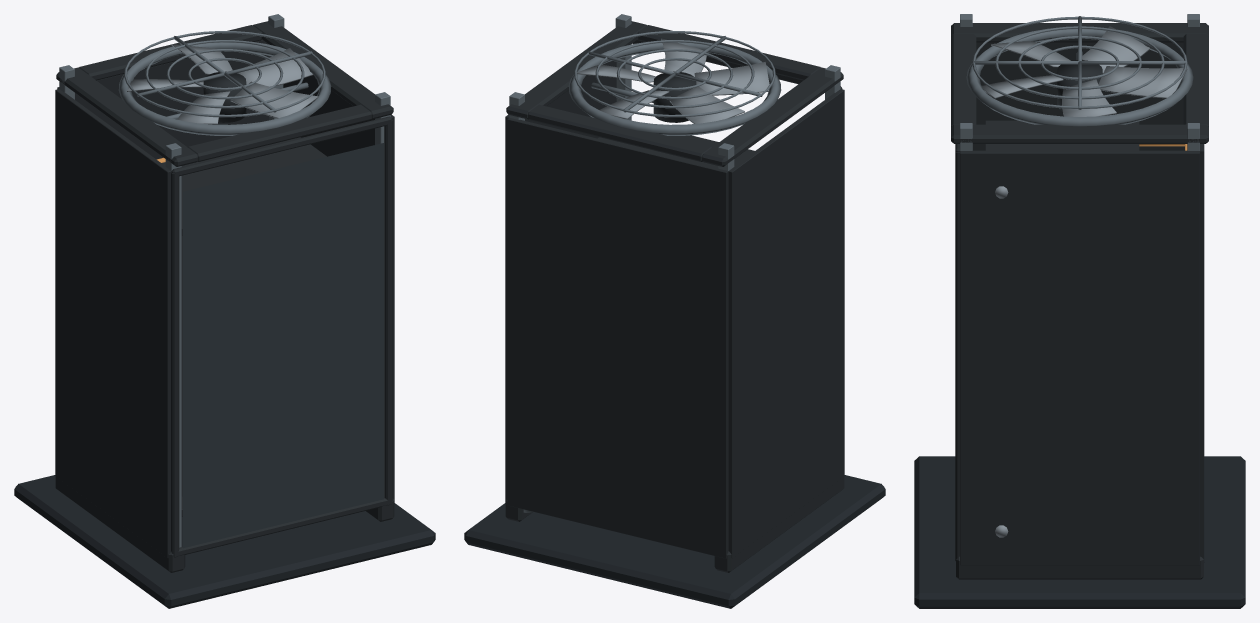
File: cooling.glb
3 views of the same model, side by side, from view 1: azimuth 30°, elevation 25°; view 2: azimuth 150°, elevation 25°; view 3: azimuth 270°, elevation 25° (orthographic). The views are drawn at different scales.
Parts seen in each view (by area): view 1: GN_COOLER_PANEL_Grille, GN_COOLER_FRAME_Graphite, GN_COOLER_FRAME_Platform, GN_COOLER_PANEL_Graphite, GN_SPECIMEN_FAN_ROTOR, GN_COOLER_GUARD_Steel, GN_COOLER_FAN_Steel, GN_COOLER_FRAME_Steel, GN_COOLER_COIL_Graphite, GN_COOLER_FAN_Graphite; view 2: GN_COOLER_FRAME_Graphite, GN_COOLER_FRAME_Platform, GN_SPECIMEN_FAN_ROTOR, GN_COOLER_GUARD_Steel, GN_COOLER_FAN_Steel, GN_COOLER_PANEL_Graphite, GN_COOLER_FRAME_Steel, GN_COOLER_FAN_Graphite, GN_COOLER_COIL_Graphite; view 3: GN_COOLER_PANEL_Graphite, GN_COOLER_FRAME_Graphite, GN_COOLER_FRAME_Platform, GN_SPECIMEN_FAN_ROTOR, GN_COOLER_GUARD_Steel, GN_COOLER_FAN_Steel, GN_COOLER_COIL_Graphite, GN_COOLER_FRAME_Steel, GN_COOLER_FAN_Graphite.
Part boxes in pixels (x1,y1,x2,y2): GN_COOLER_PANEL_Grille: (183,143,383,548); GN_COOLER_FRAME_Graphite: (55,21,394,572); GN_COOLER_FRAME_Platform: (14,475,435,608); GN_COOLER_PANEL_Graphite: (171,76,394,557); GN_SPECIMEN_FAN_ROTOR: (127,44,318,124); GN_COOLER_GUARD_Steel: (124,31,325,117); GN_COOLER_FAN_Steel: (118,41,331,135); GN_COOLER_FRAME_Steel: (59,14,390,547); GN_COOLER_COIL_Graphite: (161,137,326,516); GN_COOLER_FAN_Graphite: (203,71,246,122); GN_COOLER_FRAME_Graphite: (505,21,844,572); GN_COOLER_FRAME_Platform: (464,475,885,608); GN_SPECIMEN_FAN_ROTOR: (577,38,769,123); GN_COOLER_GUARD_Steel: (574,31,775,117); GN_COOLER_FAN_Steel: (568,41,781,135); GN_COOLER_PANEL_Graphite: (505,39,842,502); GN_COOLER_FRAME_Steel: (509,14,840,170); GN_COOLER_FAN_Graphite: (653,71,696,122); GN_COOLER_COIL_Graphite: (597,135,754,167); GN_COOLER_PANEL_Graphite: (955,144,1199,565); GN_COOLER_FRAME_Graphite: (951,23,1208,579); GN_COOLER_FRAME_Platform: (914,456,1245,608); GN_SPECIMEN_FAN_ROTOR: (982,26,1187,116); GN_COOLER_GUARD_Steel: (972,16,1187,109); GN_COOLER_FAN_Steel: (966,28,1193,126); GN_COOLER_COIL_Graphite: (985,120,1139,150); GN_COOLER_FRAME_Steel: (960,14,1199,150); GN_COOLER_FAN_Graphite: (1057,60,1102,111).
Bounding box in the file's own units: 1.32 × 2.09 × 1.31.
Materials: 7 (7 with a texture image).
